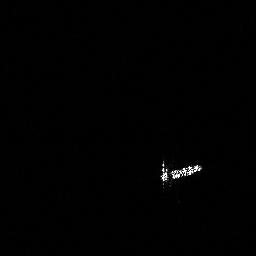ship: (155, 156, 207, 185)
